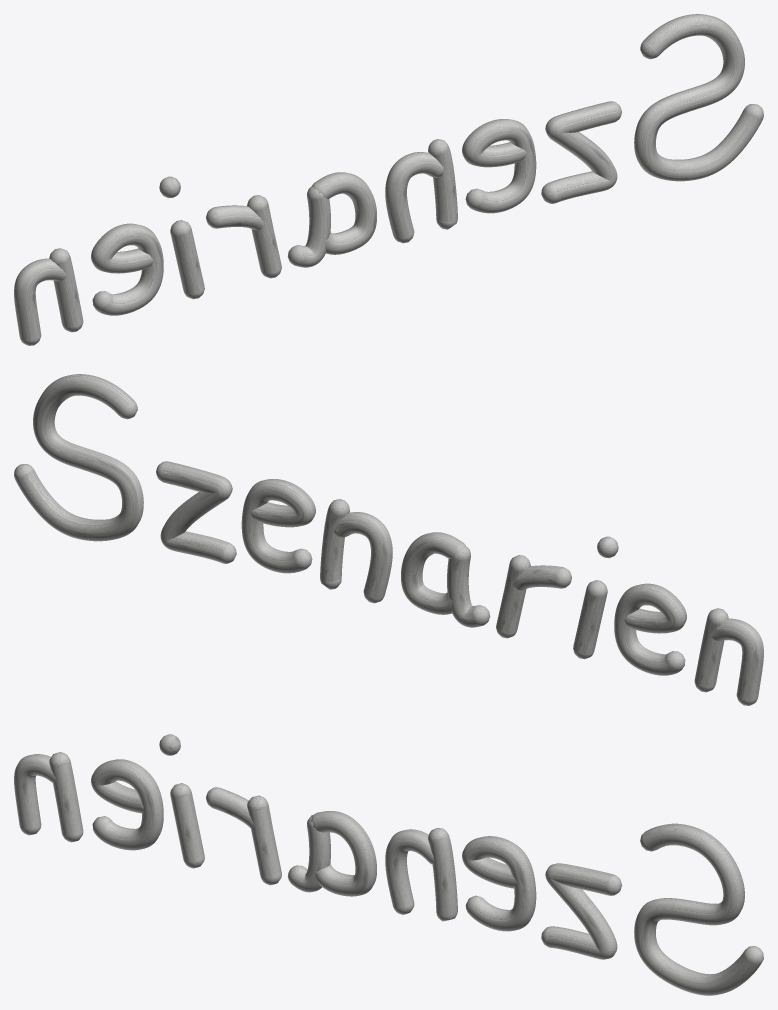
File: 94b10be2-c290-4d13-9f6d-fbb406b8e779.obj
The picture shows the model from 3 angles, top to bottom: view 1: azimuth 30°, elevation 25°; view 2: azimuth 150°, elevation 25°; view 3: azimuth 330°, elevation 25°; orthographic projection.
Visible parts, largest first — view 1: s.0424, s.0428, s.0443, s.0427, s.0431, s.0430, s.0445, s.0432, s.0429, s.0438, s.0444, s.0435 (+1 smaller); view 2: s.0424, s.0428, s.0443, s.0427, s.0431, s.0430, s.0445, s.0432, s.0429, s.0438, s.0444, s.0435 (+1 smaller); view 3: s.0424, s.0428, s.0427, s.0443, s.0431, s.0430, s.0445, s.0429, s.0444, s.0435, s.0438, s.0432 (+1 smaller).
Part boxes in pixels (x1,y1,x2,y2): s.0424: (634,14,763,181); s.0428: (462,119,536,213); s.0443: (91,223,163,315); s.0427: (541,101,621,203); s.0431: (312,172,376,254); s.0430: (385,152,443,243); s.0445: (14,258,67,345); s.0432: (287,186,330,267); s.0429: (428,139,457,229); s.0438: (170,220,204,299); s.0444: (49,248,83,332); s.0435: (247,195,281,278); s.0424: (14,374,143,541); s.0428: (241,479,315,573); s.0443: (614,583,686,675); s.0427: (156,461,236,563); s.0431: (401,532,465,614); s.0430: (334,512,392,603); s.0445: (710,618,763,705); s.0432: (447,546,490,627); s.0429: (320,499,349,589); s.0438: (573,580,607,659); s.0444: (694,608,728,692); s.0435: (496,555,530,638); s.0424: (634,823,763,995); s.0428: (462,836,536,931); s.0427: (541,863,621,959); s.0443: (91,759,163,850); s.0431: (311,811,376,896); s.0430: (385,829,434,914); s.0445: (14,754,56,835); s.0429: (428,828,457,921); s.0444: (49,752,83,842); s.0435: (247,795,281,885); s.0438: (170,783,204,868); s.0432: (287,815,330,892).
Size of the model in its own units: 1.22 by 0.2637 by 0.0309.
Materials: 1 (1 with a texture image).
